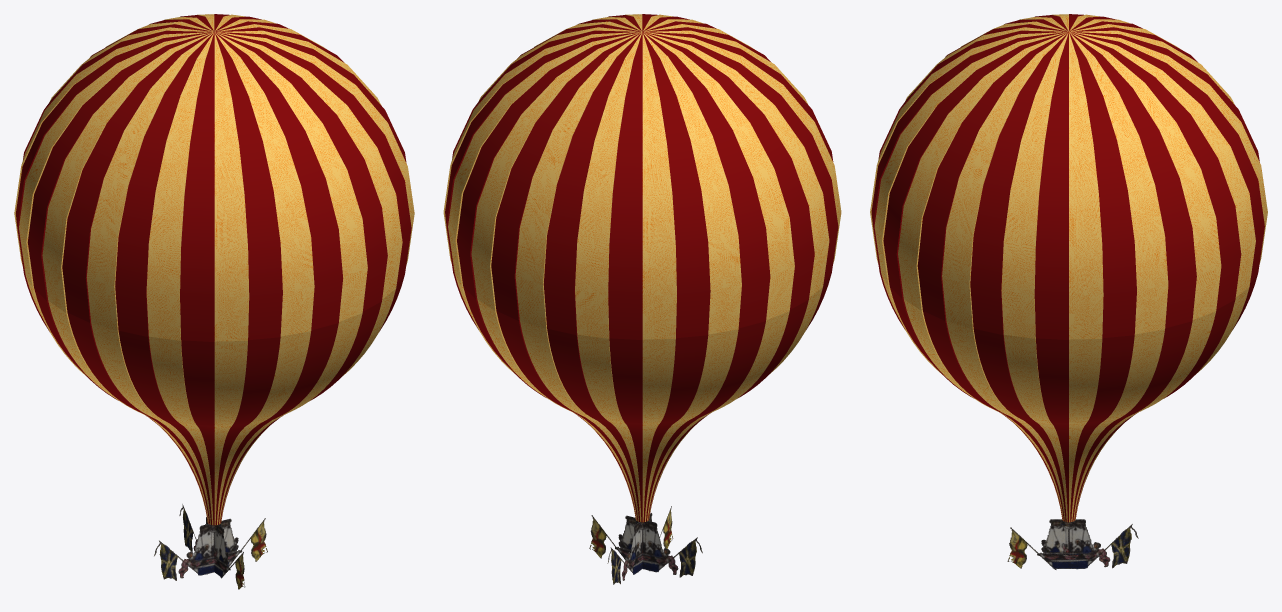
The model's file is Balloon.dae.
3 renders of one model, left to right at view 1: azimuth 30°, elevation 25°; view 2: azimuth 150°, elevation 25°; view 3: azimuth 270°, elevation 25°, orthographic.
Visible parts, largest first — view 1: group_16, group_17, group_4, group_18, group_6, group_14, group_8, group_19, group_7, group_20, group_1, group_3 (+11 smaller); view 2: group_36, group_23, group_12, group_30, group_10, group_21, group_11, group_26, group_13, group_32, group_15, group_35 (+11 smaller); view 3: group_27, group_22, group_33, group_29, group_25, group_31, group_34, group_5, group_28, group_2, group_24, group_9 (+11 smaller).
Part boxes in pixels (x1,y1,x2,y2): group_16: [214, 33, 249, 525]; group_17: [180, 32, 214, 525]; group_4: [215, 33, 282, 525]; group_18: [146, 33, 213, 525]; group_6: [215, 33, 314, 524]; group_14: [115, 33, 213, 524]; group_8: [215, 32, 343, 524]; group_19: [86, 32, 213, 524]; group_7: [216, 33, 367, 524]; group_20: [62, 33, 212, 524]; group_1: [216, 32, 387, 523]; group_3: [42, 32, 212, 523]; group_36: [642, 33, 676, 522]; group_23: [608, 32, 642, 522]; group_12: [642, 32, 710, 522]; group_30: [575, 32, 642, 521]; group_10: [643, 33, 741, 521]; group_21: [543, 33, 641, 521]; group_11: [643, 32, 770, 521]; group_26: [515, 32, 641, 521]; group_13: [644, 33, 794, 521]; group_32: [491, 33, 640, 521]; group_15: [643, 32, 814, 520]; group_35: [471, 32, 641, 520]; group_27: [1069, 32, 1103, 522]; group_22: [1034, 32, 1068, 522]; group_33: [1069, 32, 1136, 521]; group_29: [1001, 32, 1068, 522]; group_25: [1069, 32, 1168, 521]; group_31: [970, 32, 1068, 521]; group_34: [1070, 33, 1196, 521]; group_5: [942, 33, 1067, 521]; group_28: [1070, 32, 1221, 521]; group_2: [917, 32, 1067, 521]; group_24: [1072, 33, 1241, 520]; group_9: [898, 33, 1065, 520].
Bounding box in the file's own units: 31.57 × 31.57 × 47.22.
